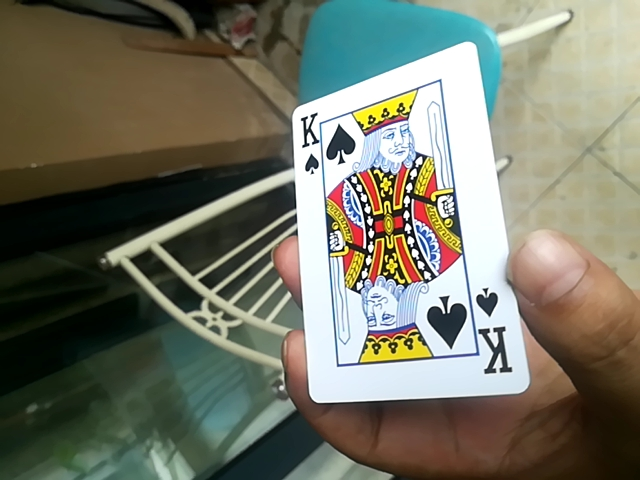ht k: (286, 39, 515, 419)
